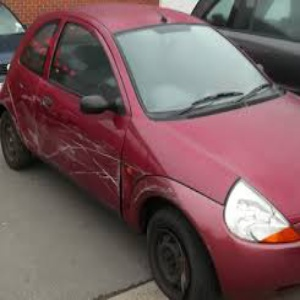door_scratch: (31, 117, 140, 200)
